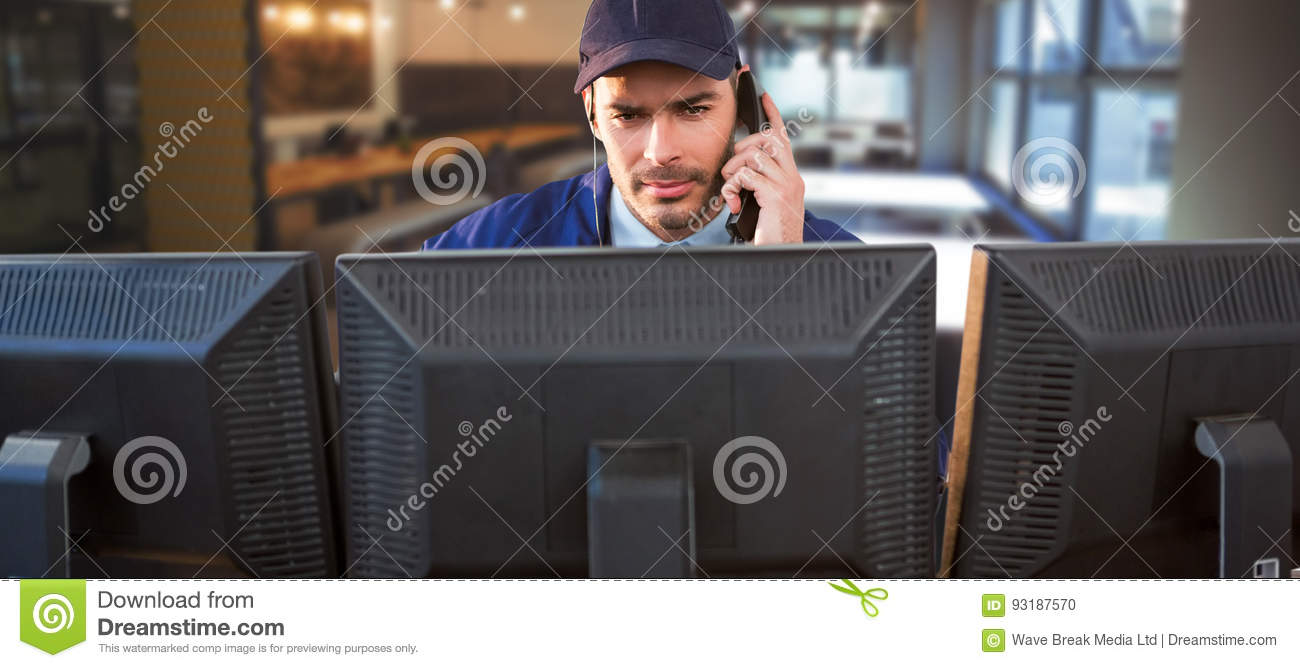talk: (599, 67, 810, 248)
